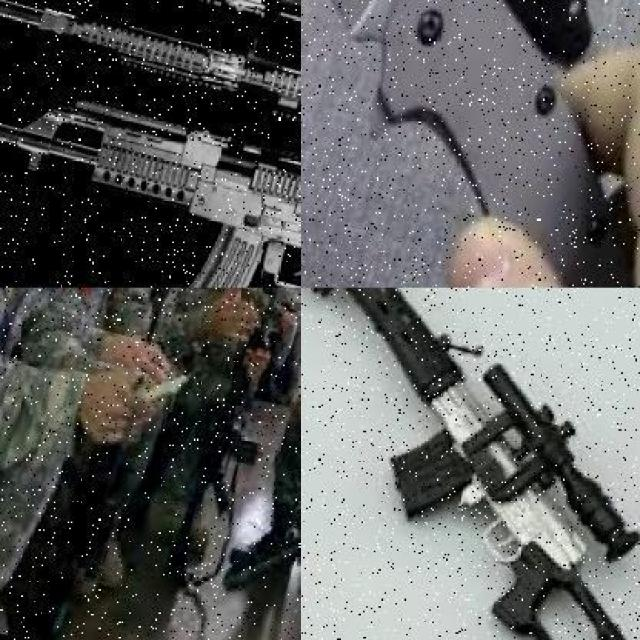weapon: (318, 287, 640, 639), (329, 2, 622, 288), (5, 62, 306, 290), (6, 1, 299, 105)
